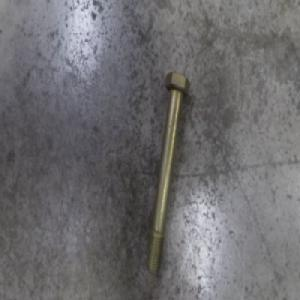Bolt: (144, 70, 191, 276)
